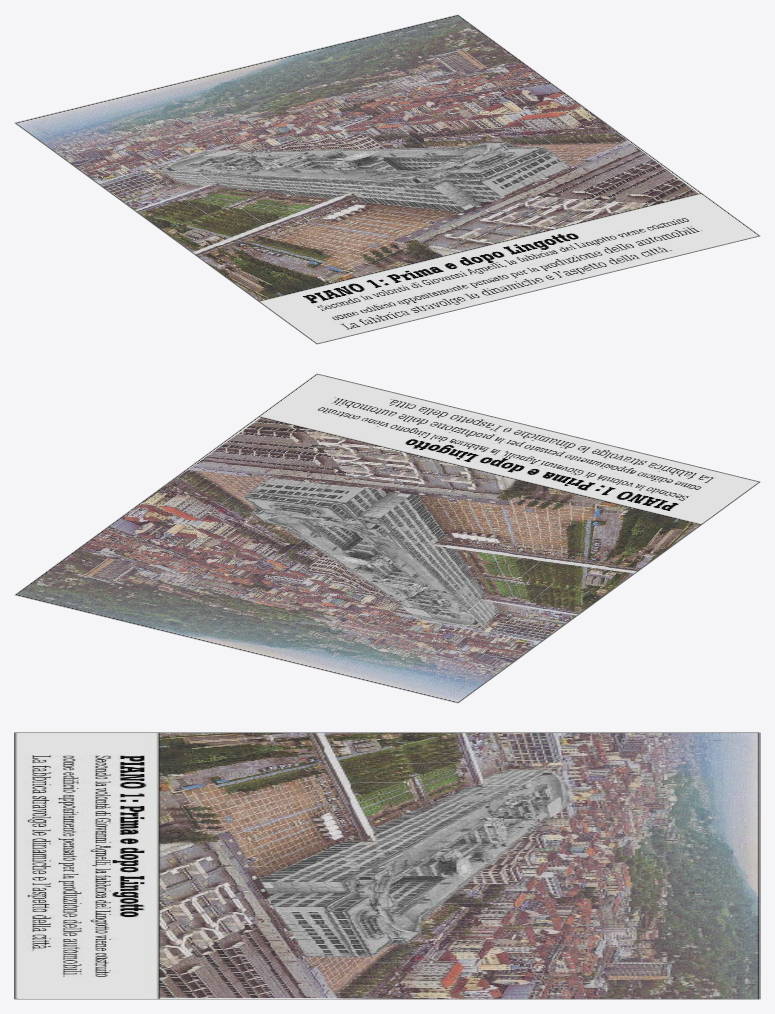
Rendered from PIANO1.obj.
3 renders of one model, top to bottom at view 1: azimuth 30°, elevation 25°; view 2: azimuth 150°, elevation 25°; view 3: azimuth 270°, elevation 25°, orthographic. The views are drawn at different scales.
Parts seen in each view (by area): view 1: Plane001; view 2: Plane001; view 3: Plane001.
Boxes of the visible parts, left/top/right/bottom form: Plane001: left=14, top=14, right=760, bottom=344; Plane001: left=14, top=373, right=760, bottom=703; Plane001: left=14, top=732, right=760, bottom=999.
Size of the model in its own units: 1.91 by 0 by 2.26.
Materials: 1 (1 with a texture image).
